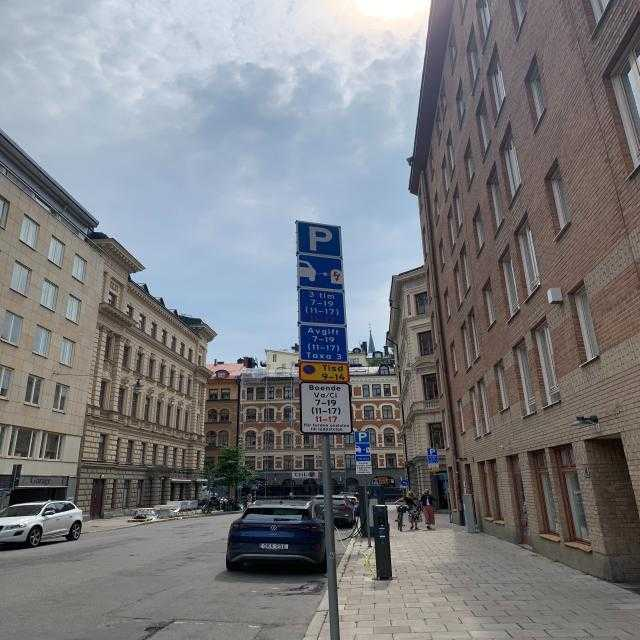psign: (295, 221, 341, 257), (355, 431, 370, 443)
